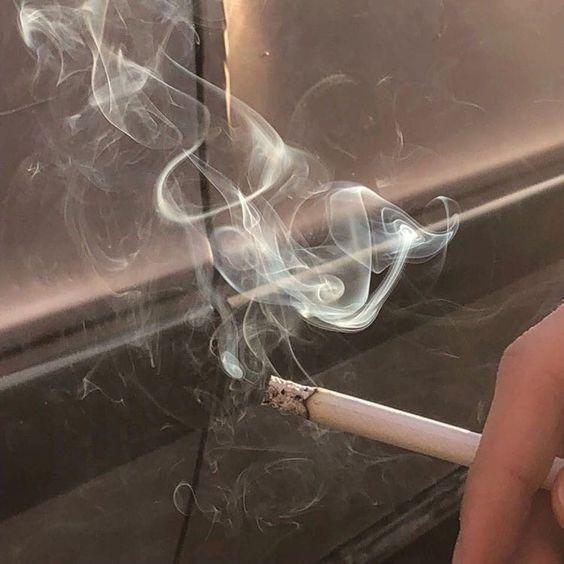cigarette: (260, 373, 564, 492)
